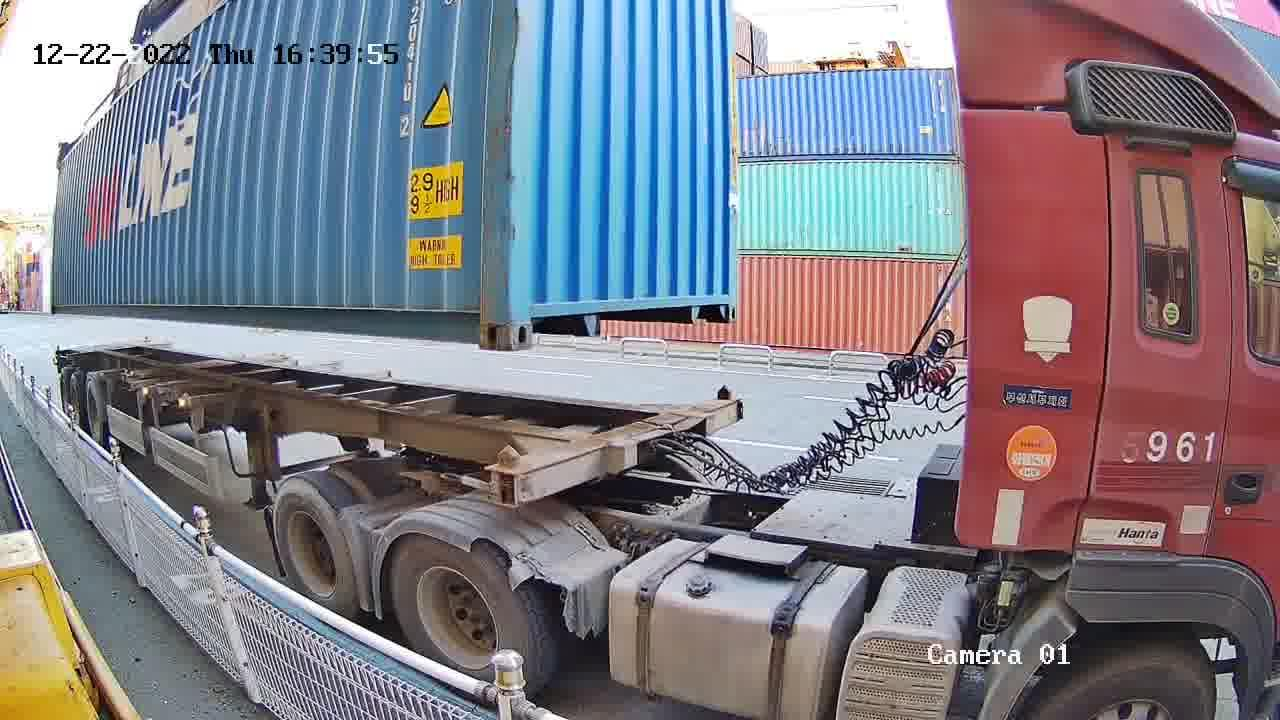Chassis: (487, 397, 740, 504)
Cone: (488, 444, 523, 505), (714, 383, 735, 410)
Hole_L: (507, 279, 569, 349)
Hole_R: (442, 279, 510, 350), (692, 274, 739, 325)
Tire: (388, 527, 529, 682), (275, 475, 355, 607)
